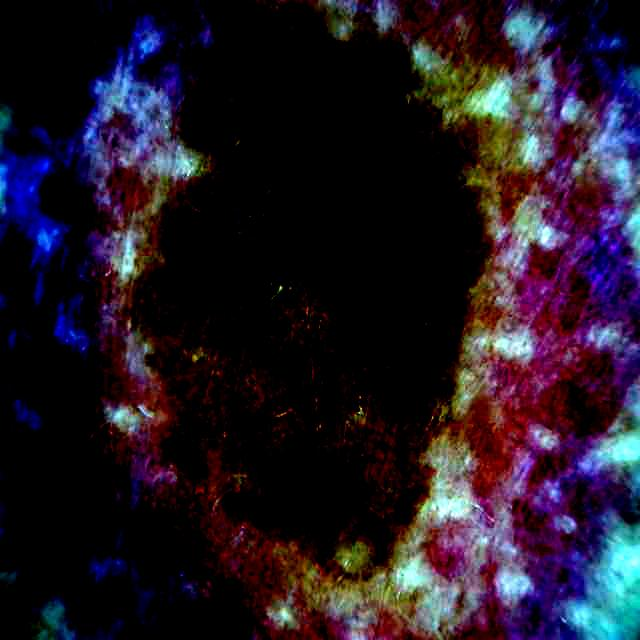BKL: (139, 6, 483, 574)
